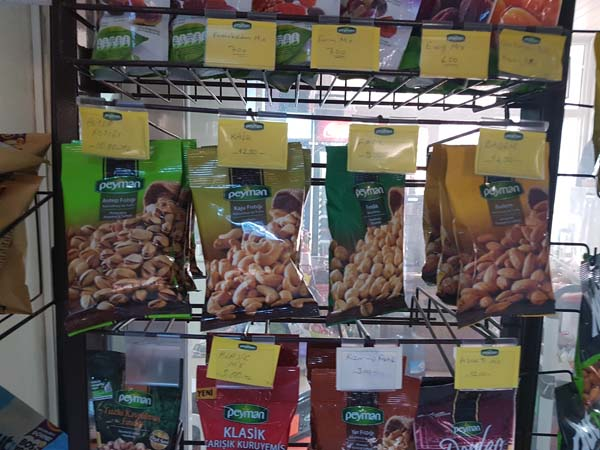antepfistigi: (62, 142, 195, 328)
peysankavrulmusfindik: (326, 143, 415, 322)
